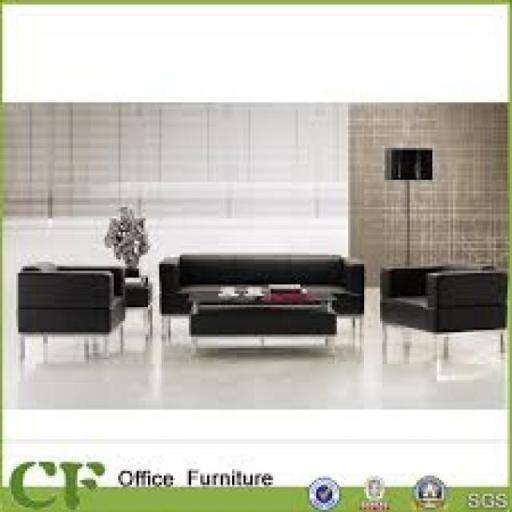sofa: (162, 206, 376, 364), (380, 208, 512, 434), (8, 227, 158, 372)
